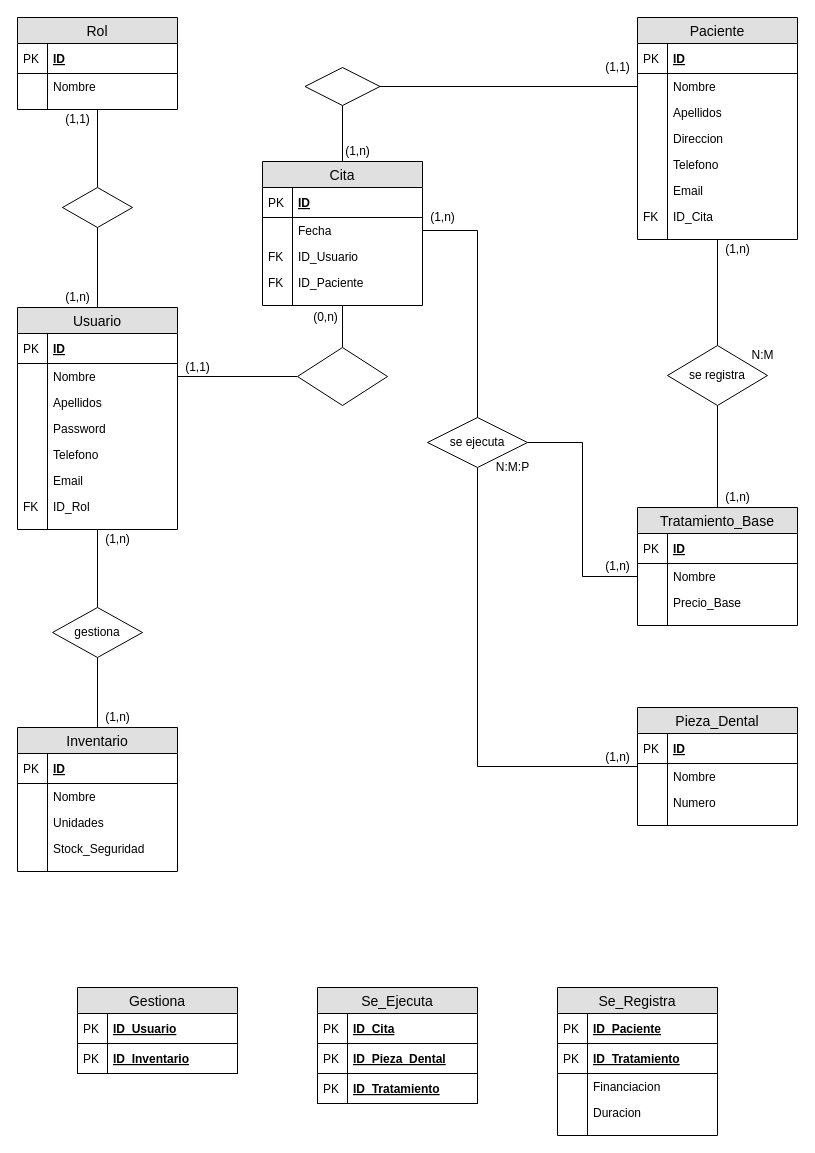
This 815x1153 diagram has some shape labels left out. Here are the shapes that lost their labels. From the top down, the centre of each, then its label:
At point 342,86: "asiste".
At point 97,207: "tiene".
At point 342,376: "administra".
